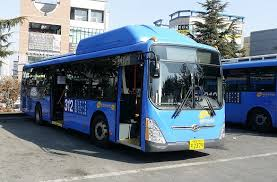entrance: (118, 62, 143, 146)
